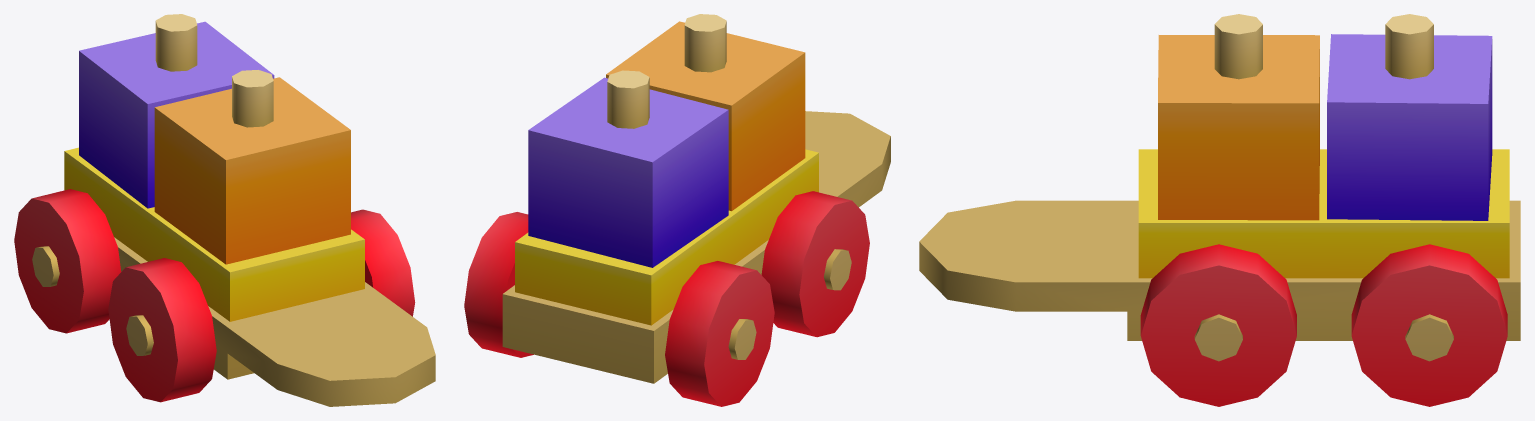
File: trainTrailer_2.fbx
3 renders of one model, left to right at view 1: azimuth 30°, elevation 25°; view 2: azimuth 150°, elevation 25°; view 3: azimuth 270°, elevation 25°, orthographic. The views are drawn at different scales.
Parts seen in each view (by area): view 1: trainTrailer_2; view 2: trainTrailer_2; view 3: trainTrailer_2.
Part boxes in pixels (x1,y1,x2,y2): trainTrailer_2: (14,14,435,406); trainTrailer_2: (464,14,890,406); trainTrailer_2: (919,14,1520,406).
Bounding box in the file's own units: 9.79 × 10.66 × 18.27.
